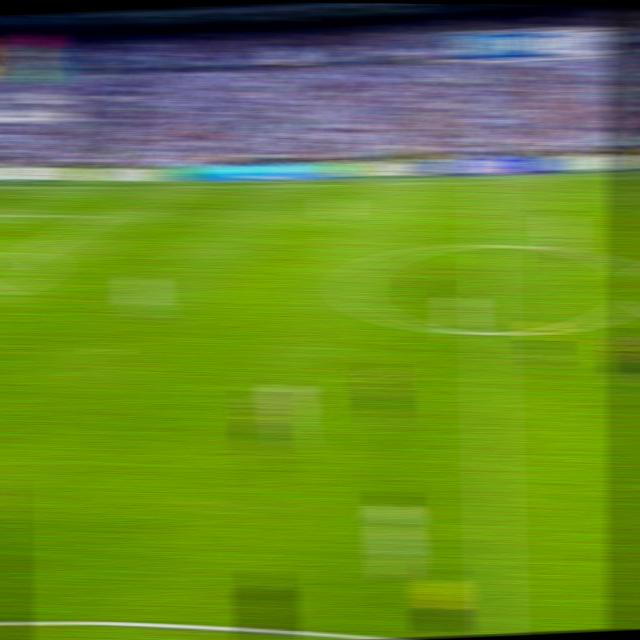corner: (0, 180, 19, 192)
halfcircle_bottom: (474, 319, 504, 346)
halfcircle_top: (474, 233, 502, 257)
midline_top_intersection: (476, 175, 499, 188)
